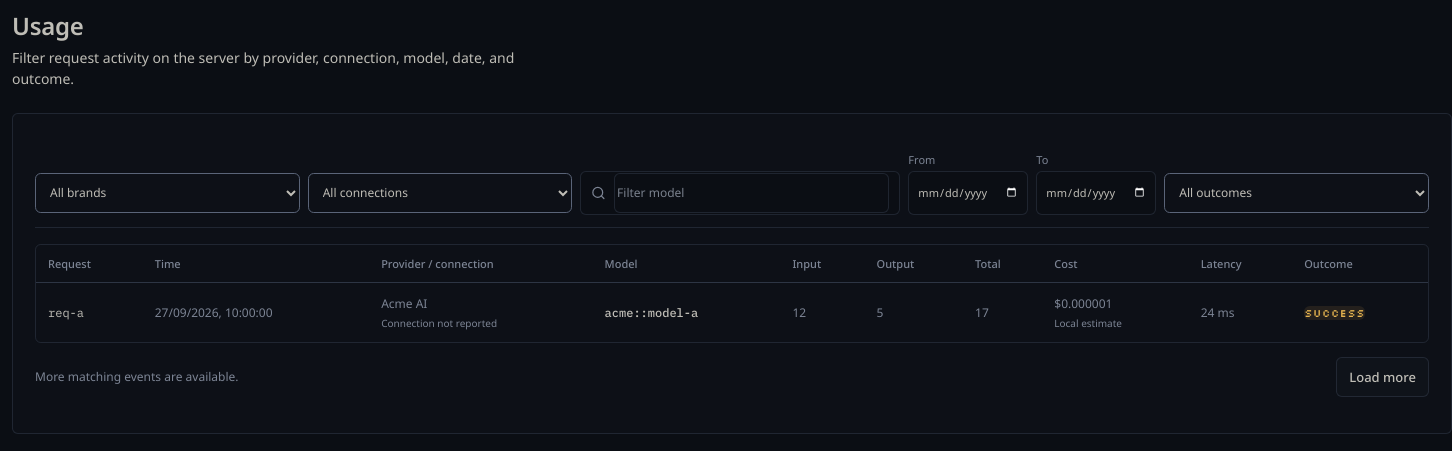
Test case: Task 8 operator interface › appends operator usage pages and shows input and output token counts separately
Check: the text "req-a" is shown, box top-left (48, 305), bottom-right (84, 320)
Check: the text "12" is shown, box top-left (780, 282), bottom-right (865, 342)
Click the button "Load more". click: (1383, 377)
box: top-left (1336, 357), bottom-right (1429, 397)
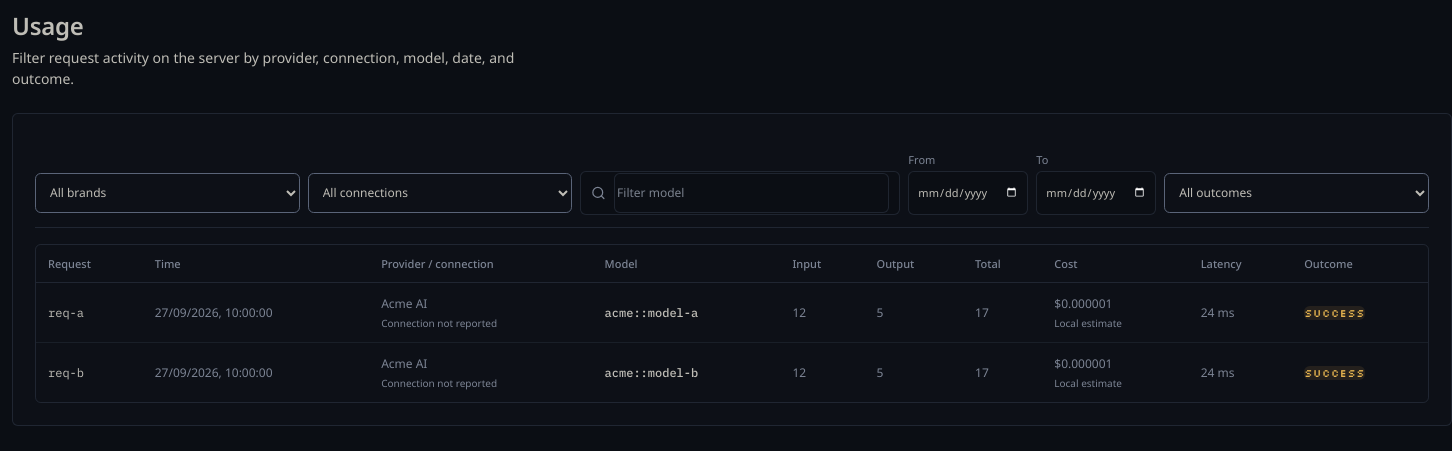
Check: the text "req-a" is shown, box top-left (48, 305), bottom-right (84, 320)
Check: the text "req-b" is shown, box top-left (48, 365), bottom-right (84, 380)
